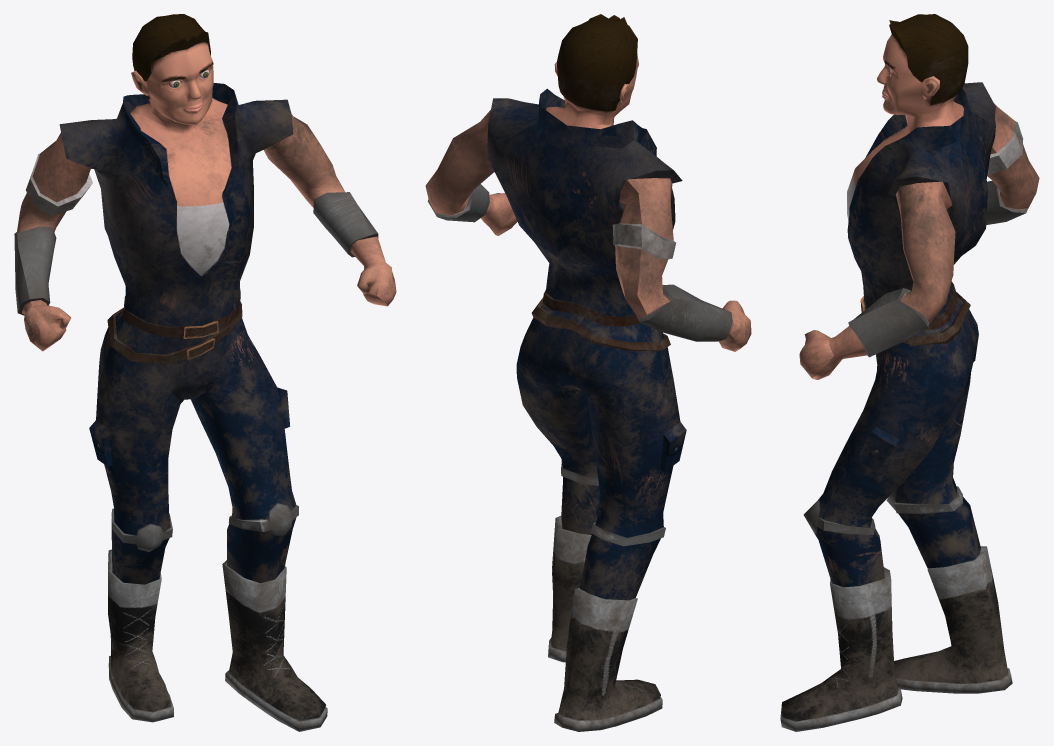
Rendered from Anim_ataque_d1_jugador.0030.obj.
3 renders of one model, left to right at view 1: azimuth 30°, elevation 25°; view 2: azimuth 150°, elevation 25°; view 3: azimuth 270°, elevation 25°, orthographic.
Visible parts, largest first — view 1: polySurface1; view 2: polySurface1; view 3: polySurface1.
Boxes of the visible parts, left/top/right/bottom form: polySurface1: left=14, top=14, right=396, bottom=731; polySurface1: left=425, top=14, right=751, bottom=731; polySurface1: left=780, top=14, right=1039, bottom=731.
Size of the model in its own units: 4.71 by 9.56 by 3.31.
